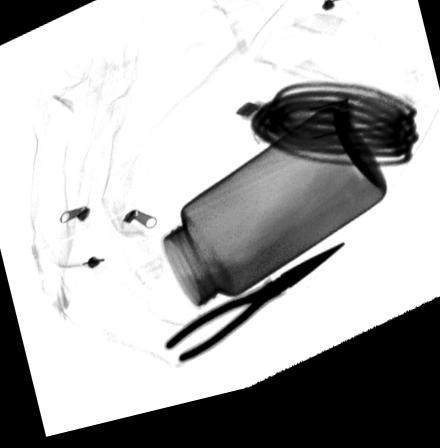Pliers: (162, 257, 347, 374)
